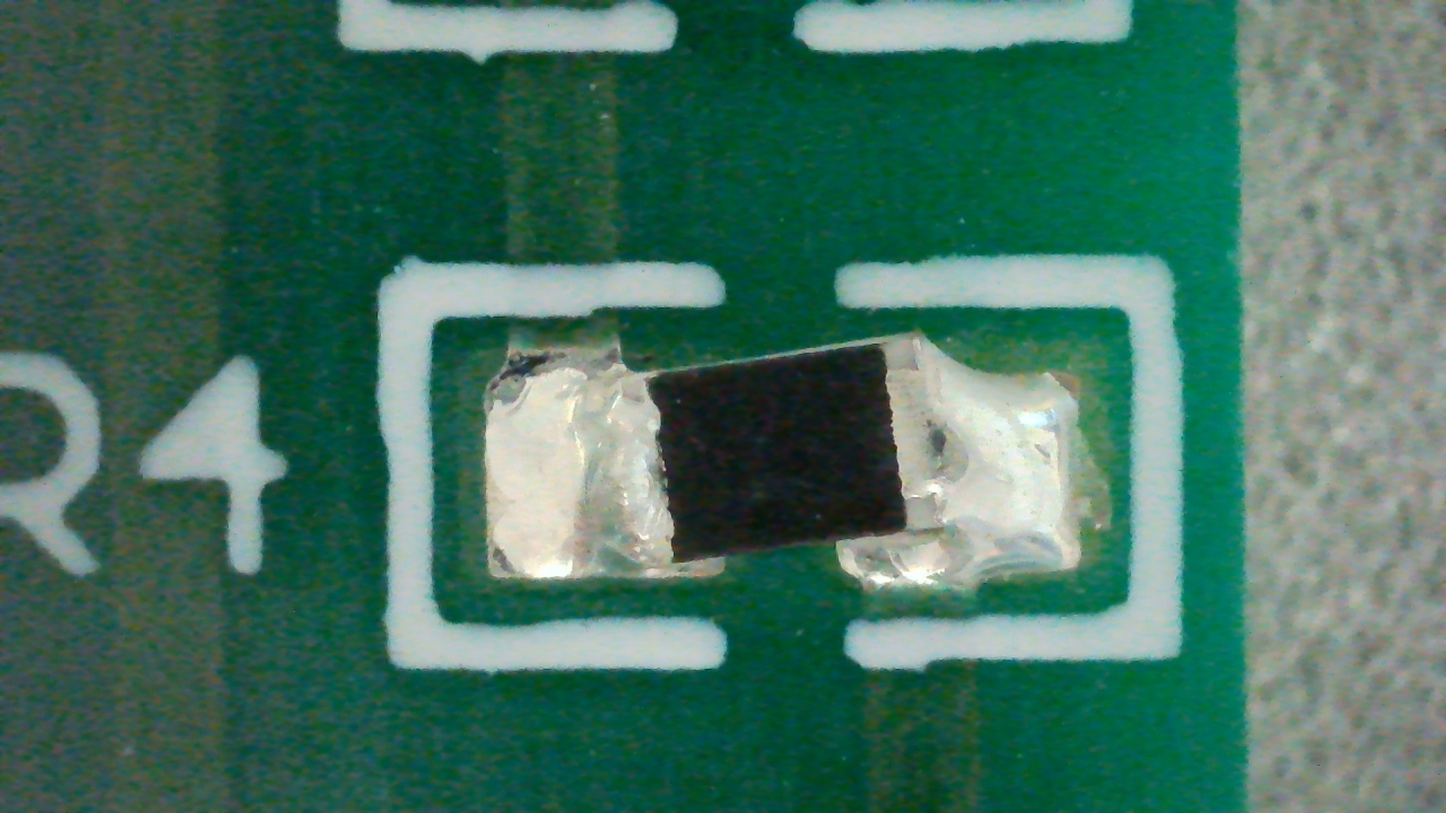NG: (486, 332, 1106, 590)
